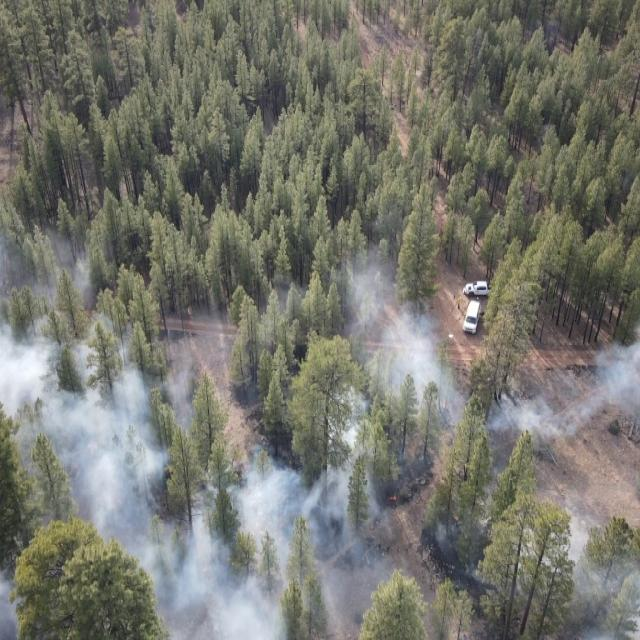fire: (379, 478, 414, 520)
smoke: (0, 232, 455, 640), (452, 342, 640, 640)
